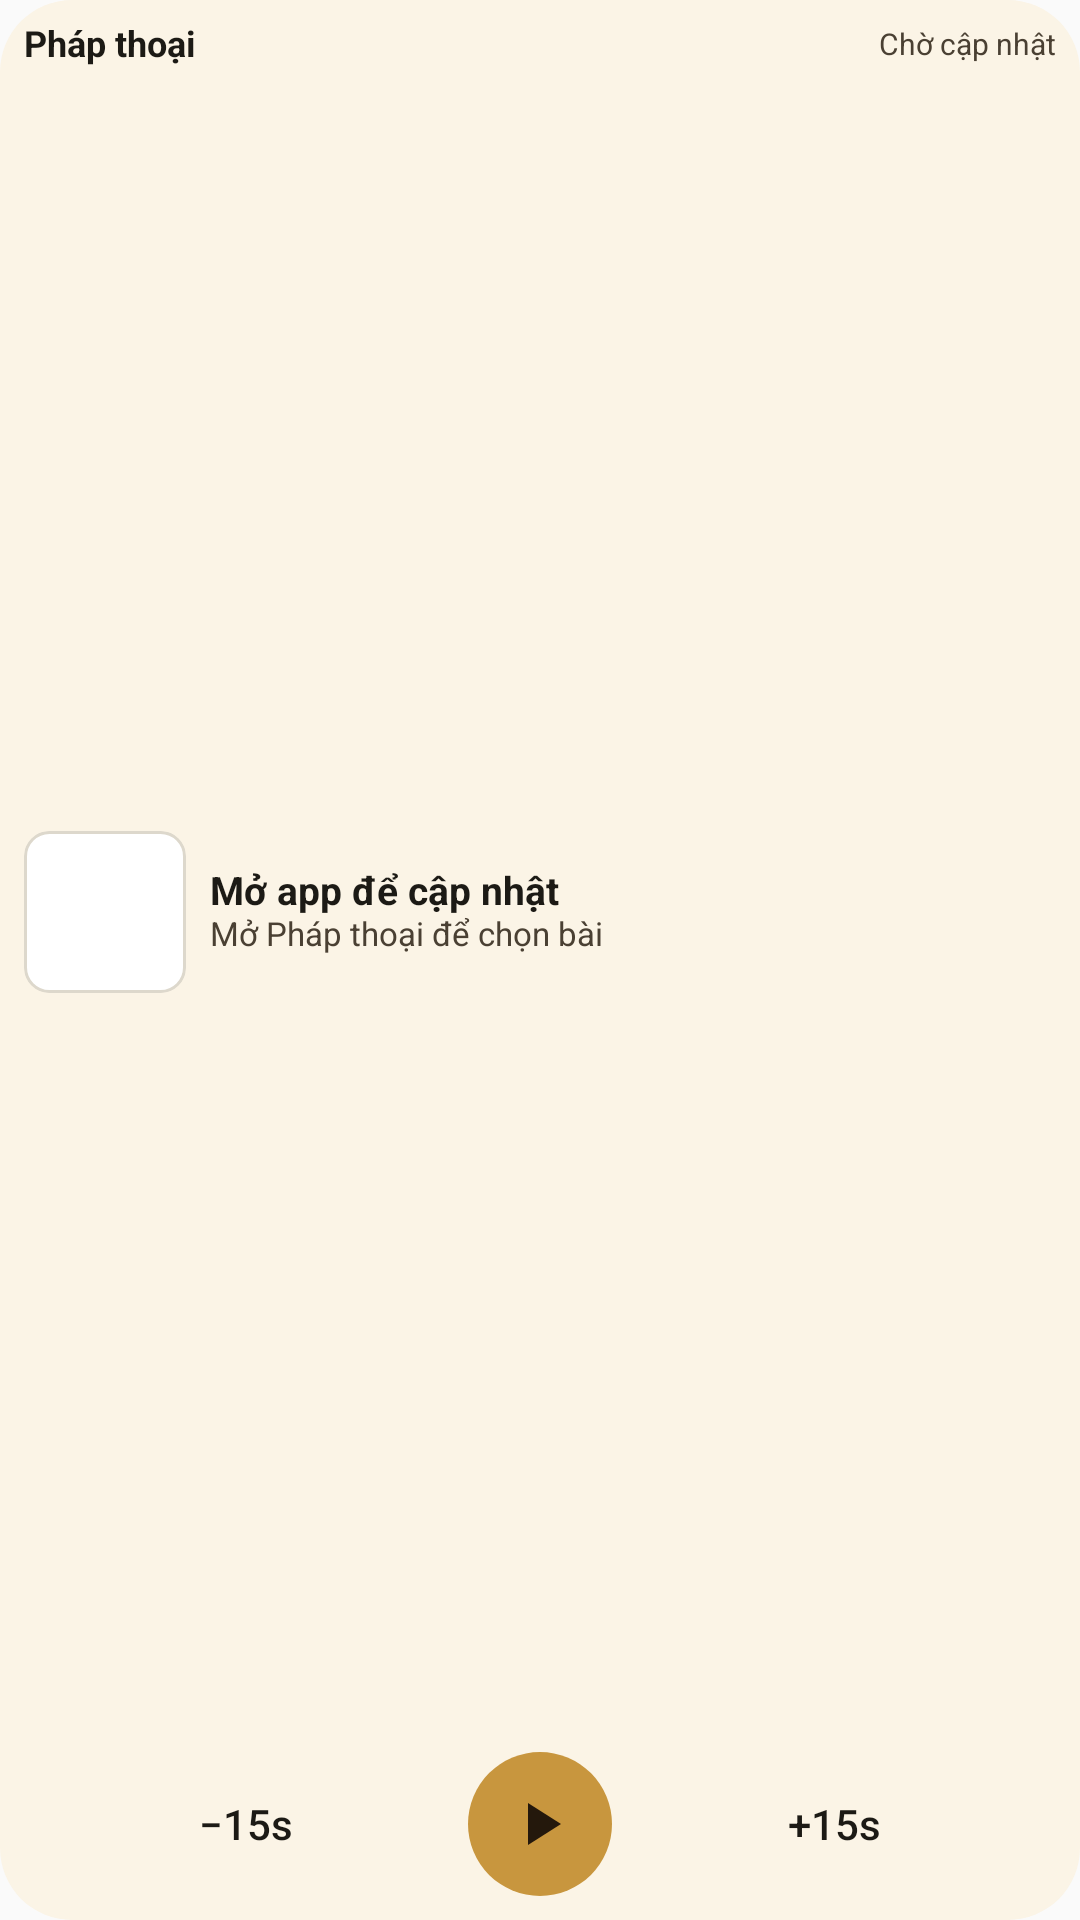

Locate icon controls on the screen. Image size 1080x1920, boxes as detection(x1, y1, x2, y2).
Phát tiếp: detection(468, 1752, 612, 1896)
